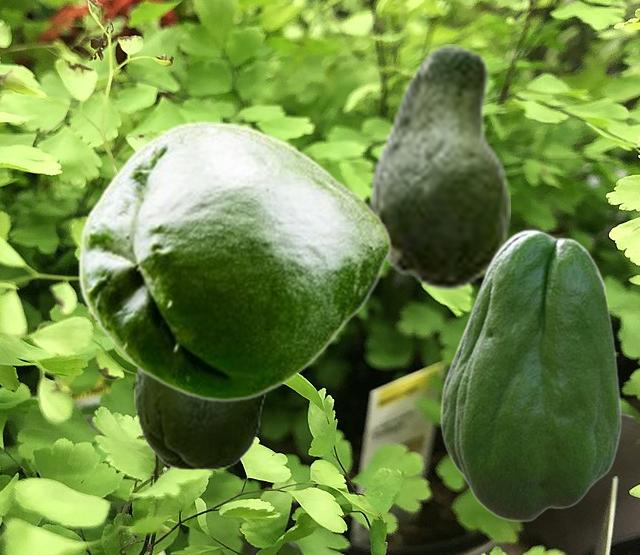sayote: (77, 120, 391, 401), (440, 229, 621, 521), (368, 44, 509, 291), (134, 367, 269, 469)
